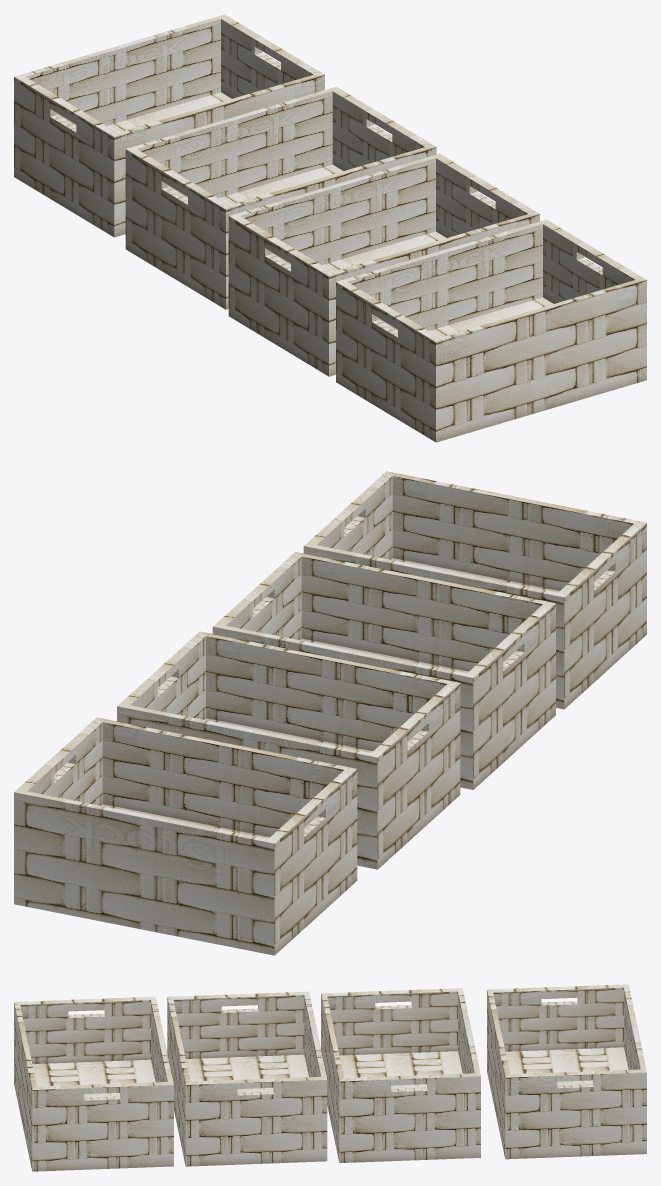
The model's file is CajasArriba.obj.
3 renders of one model, top to bottom at view 1: azimuth 30°, elevation 25°; view 2: azimuth 150°, elevation 25°; view 3: azimuth 270°, elevation 25°, orthographic. The views are drawn at different scales.
Visible parts, largest first — view 1: Caja:pCube7; view 2: Caja:pCube7; view 3: Caja:pCube7.
Part boxes in pixels (x1=…): Caja:pCube7: x1=14, y1=14, x2=646, y2=442; Caja:pCube7: x1=14, y1=471, x2=646, y2=955; Caja:pCube7: x1=14, y1=984, x2=646, y2=1171.
Bounding box in the file's own units: 1.24 × 0.446 × 3.14.
4 materials, 4 textured.
